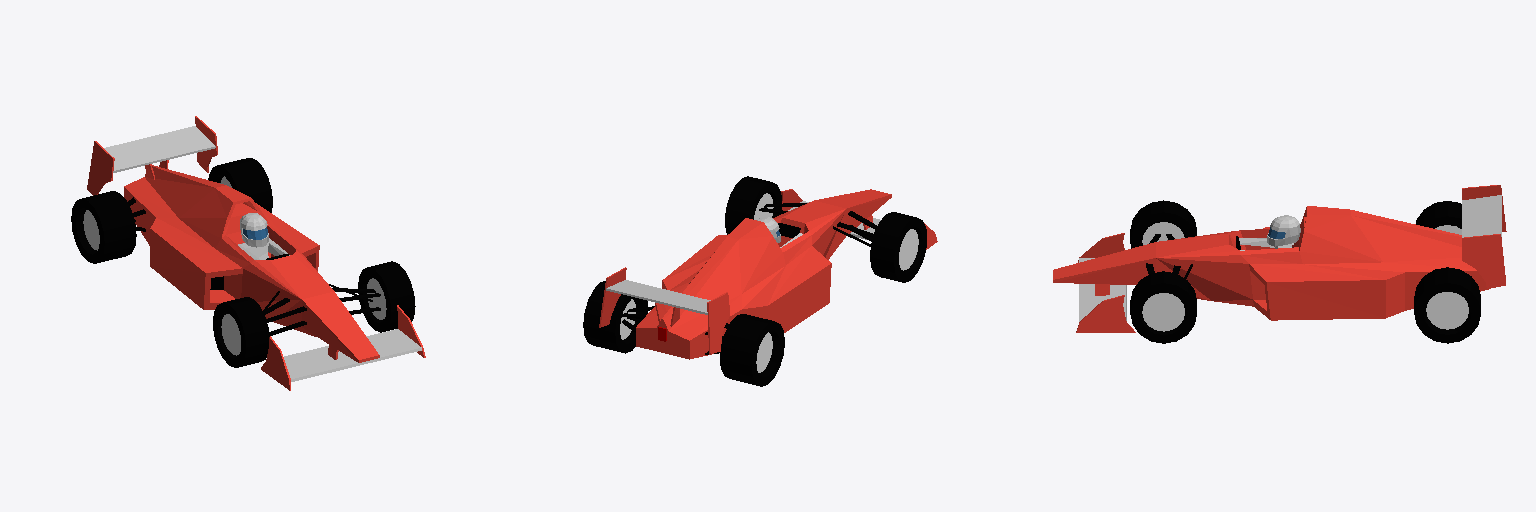
Rendered from car-formula.obj.
3 renders of one model, left to right at view 1: azimuth 30°, elevation 25°; view 2: azimuth 150°, elevation 25°; view 3: azimuth 270°, elevation 25°, orthographic.
Parts seen in each view (by area): view 1: car-formula-grey_Cube.906; view 2: car-formula-grey_Cube.906; view 3: car-formula-grey_Cube.906.
Boxes of the visible parts, x1,y1,x2,y2 form: car-formula-grey_Cube.906: [71, 116, 425, 390]; car-formula-grey_Cube.906: [583, 176, 937, 386]; car-formula-grey_Cube.906: [1053, 185, 1506, 343].
Size of the model in its own units: 0.9431 by 0.4961 by 2.19.